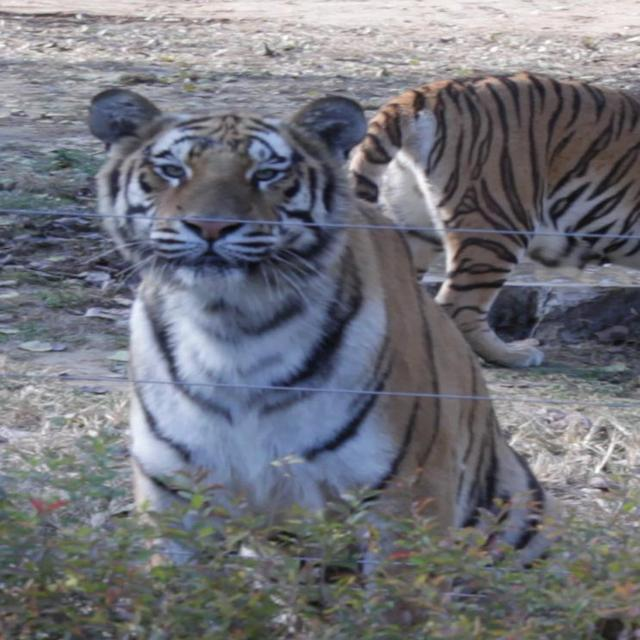tiger: (70, 67, 566, 597), (349, 39, 640, 426)
